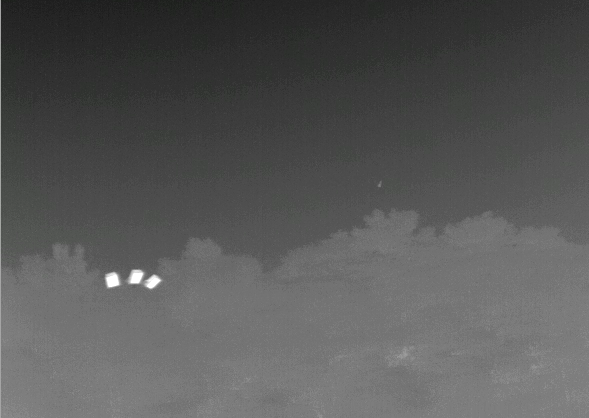dim target: (376, 179, 383, 188)
